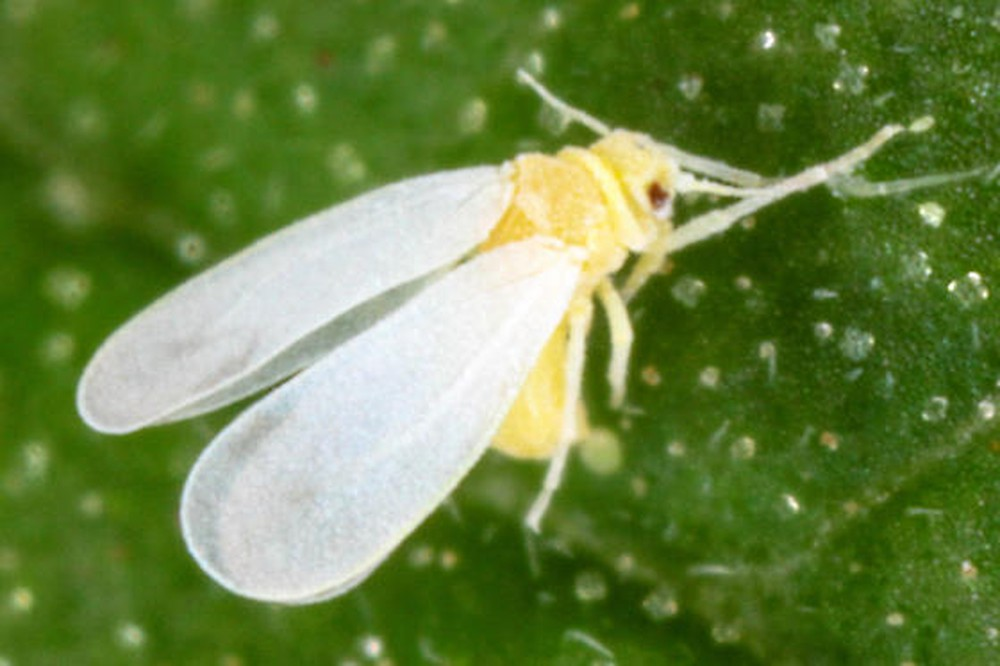Mosca Blanca: (65, 57, 947, 623)
